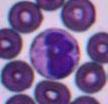N: (30, 28, 81, 80)
